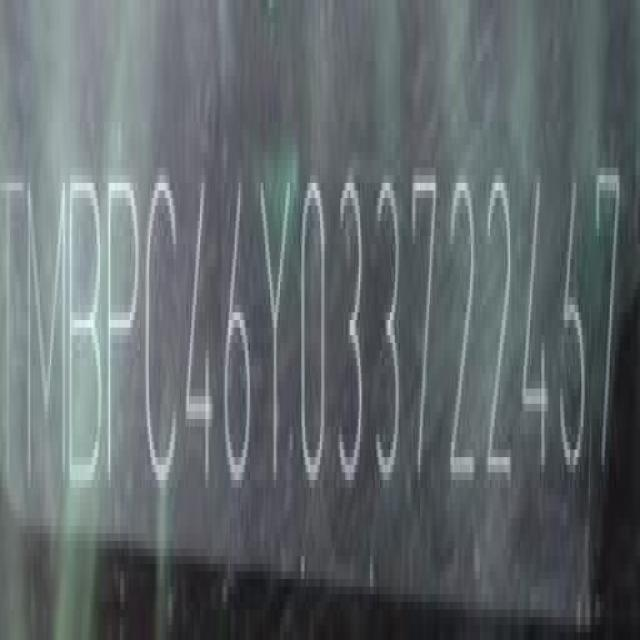0: (302, 165, 331, 496)
2: (483, 166, 516, 496), (452, 167, 481, 495)
3: (340, 170, 370, 499), (377, 164, 406, 496)
4: (183, 165, 220, 508), (522, 170, 553, 494)
6: (557, 159, 588, 488)
7: (596, 156, 628, 488), (411, 162, 441, 498)
A: (221, 165, 252, 500)
B: (68, 169, 105, 518)
C: (144, 168, 181, 508)
M: (26, 169, 67, 516)
P: (105, 168, 142, 515)
T: (1, 167, 25, 513)
Y: (256, 160, 294, 497)
